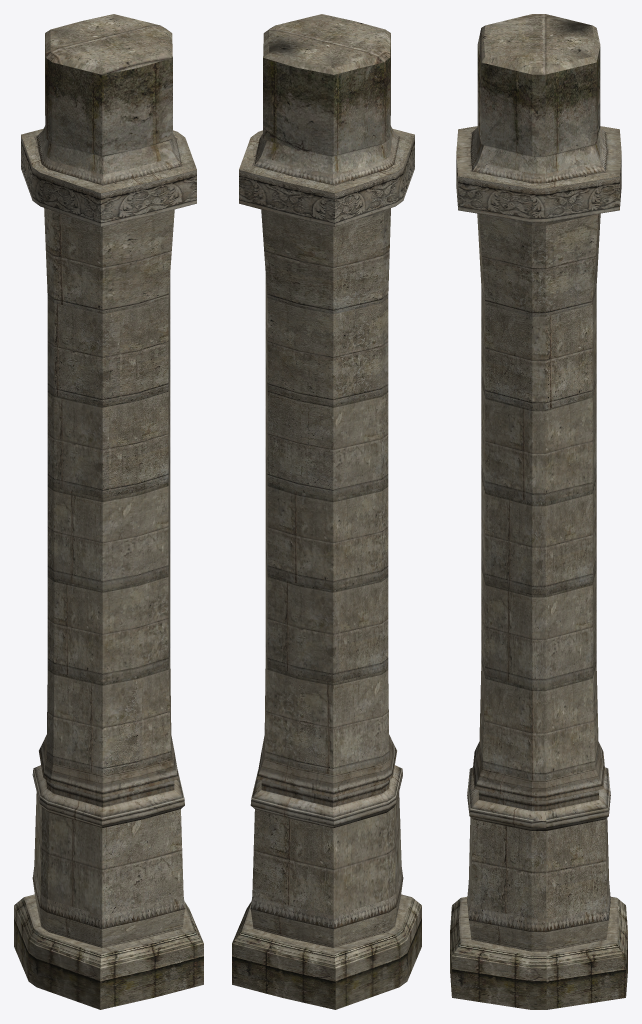
File: SM_Plains_Column_Small_01.fbx
3 views of the same model, side by side, from view 1: azimuth 30°, elevation 25°; view 2: azimuth 150°, elevation 25°; view 3: azimuth 270°, elevation 25° (orthographic).
Parts seen in each view (by area): view 1: SM_Plains_Column_Small_01; view 2: SM_Plains_Column_Small_01; view 3: SM_Plains_Column_Small_01.
Part boxes in pixels (left/top/right/bottom): SM_Plains_Column_Small_01: left=14, top=14, right=203, bottom=1009; SM_Plains_Column_Small_01: left=232, top=14, right=421, bottom=1009; SM_Plains_Column_Small_01: left=450, top=14, right=627, bottom=1009.
Bounding box in the file's own units: 71.99 × 417 × 72.
